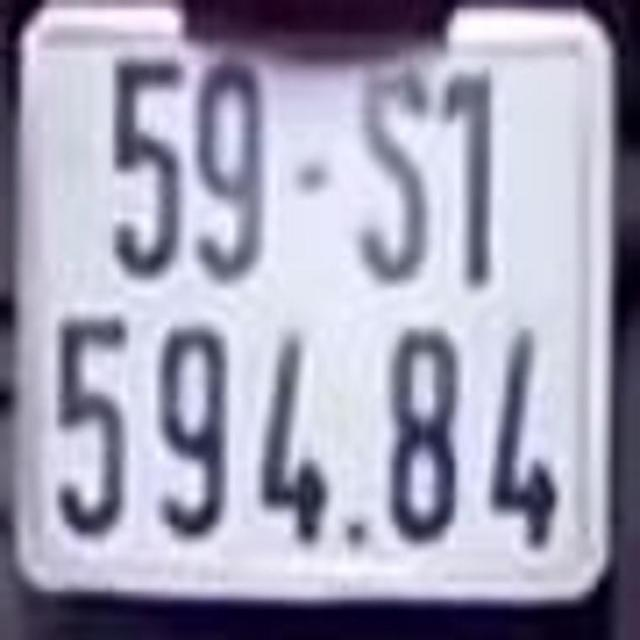1: (436, 64, 506, 292)
4: (482, 322, 560, 559), (254, 323, 325, 560)
5: (102, 56, 186, 274), (54, 308, 132, 538)
8: (386, 326, 464, 542)
9: (152, 313, 229, 544), (192, 46, 263, 284)
S: (355, 62, 433, 300)
